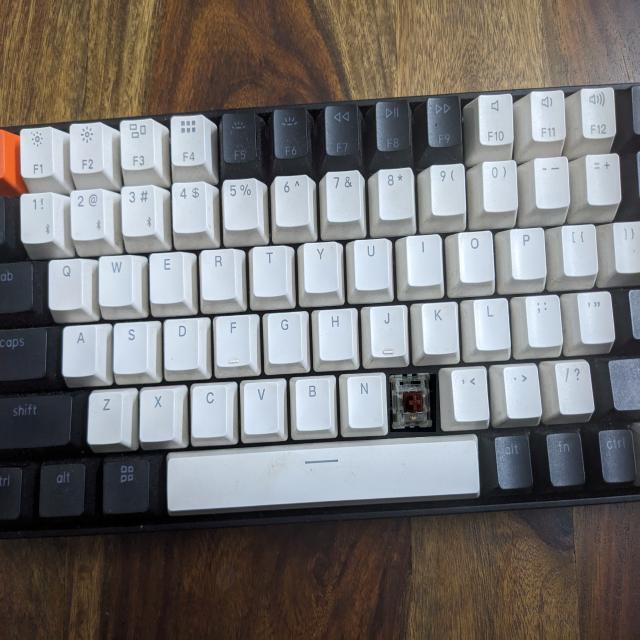C: (390, 374, 436, 432)
